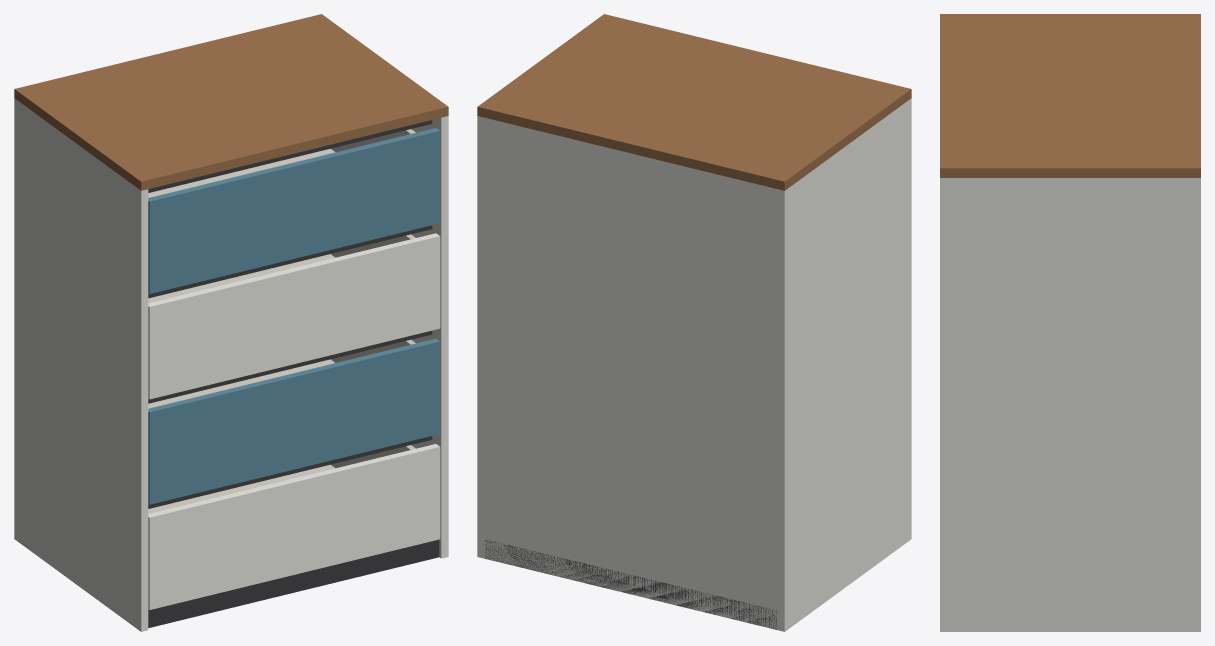
The model's file is dresser.obj.
3 views of the same model, side by side, from view 1: azimuth 30°, elevation 25°; view 2: azimuth 150°, elevation 25°; view 3: azimuth 270°, elevation 25° (orthographic). The views are drawn at different scales.
Visible parts, largest first — view 1: side_left, top, drawer_2_front, drawer_4_front, drawer_3_front, drawer_1_front, plinth, side_right, handle_2, handle_4, handle_1, handle_3 (+4 smaller); view 2: back, side_left, top, plinth, side_right; view 3: side_right, top.
Boxes of the visible parts, x1,y1,x2,y2 form: side_left: (14,98,148,631); top: (14,14,448,190); drawer_2_front: (148,233,440,399); drawer_4_front: (148,444,440,609); drawer_3_front: (148,338,440,504); drawer_1_front: (148,128,440,293); plinth: (148,539,439,627); side_right: (411,116,448,558); handle_2: (148,225,432,298); handle_4: (148,436,432,508); handle_1: (148,120,432,192); handle_3: (148,330,432,403); back: (484,118,777,629); side_left: (777,98,911,631); top: (477,14,911,190); plinth: (484,540,777,629); side_right: (477,116,484,558); side_right: (940,178,1200,631); top: (940,14,1200,177).
Size of the model in its own units: 70 by 98 by 50.
